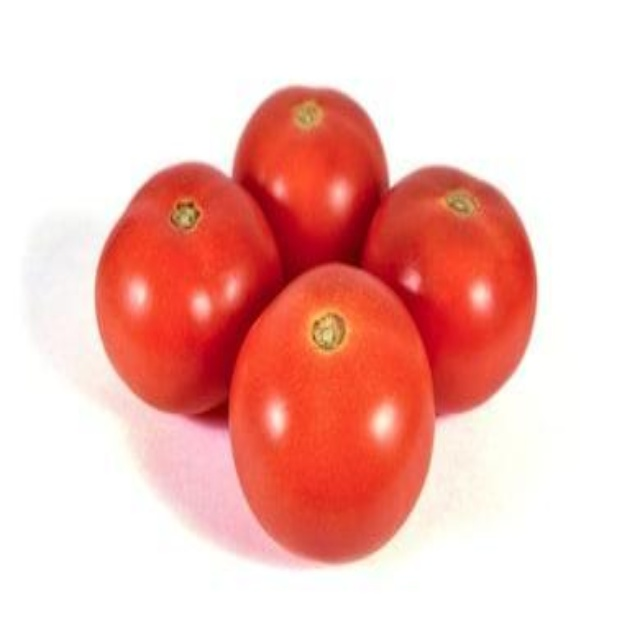tomato: (228, 264, 431, 564), (360, 155, 538, 412), (102, 171, 262, 409), (231, 75, 383, 269)
